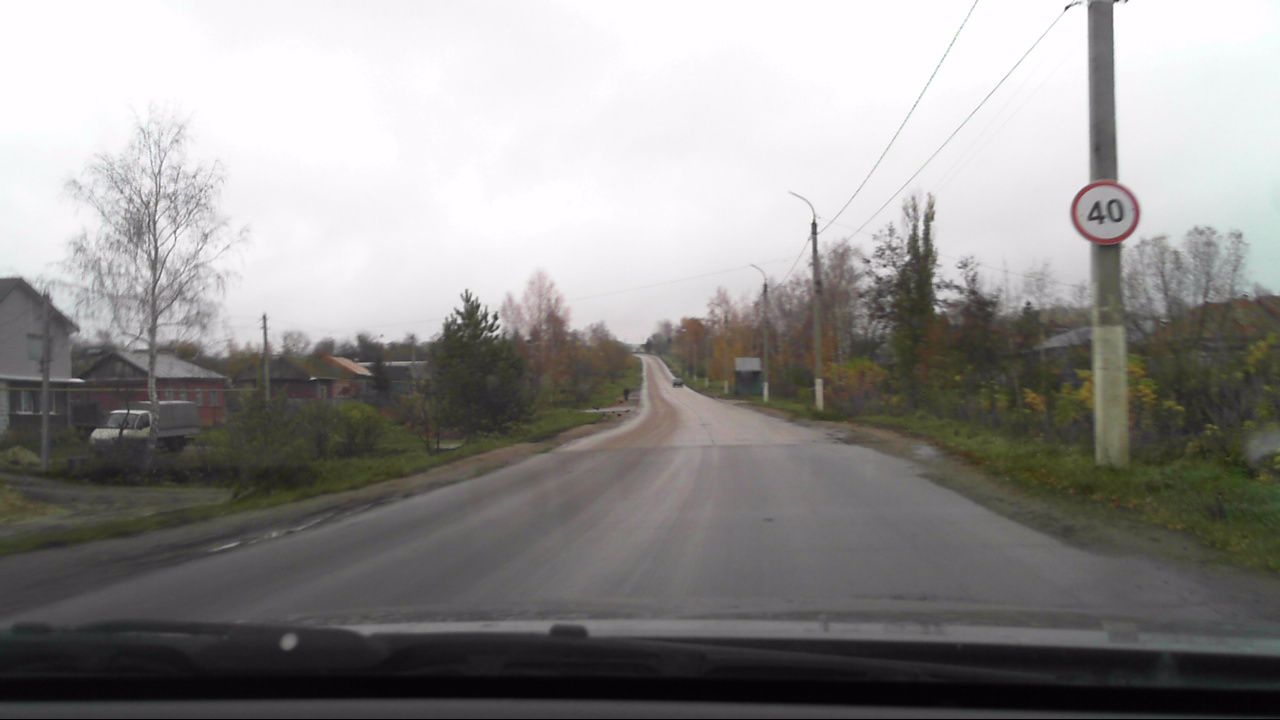speed_warning_40: (1068, 180, 1142, 248)
